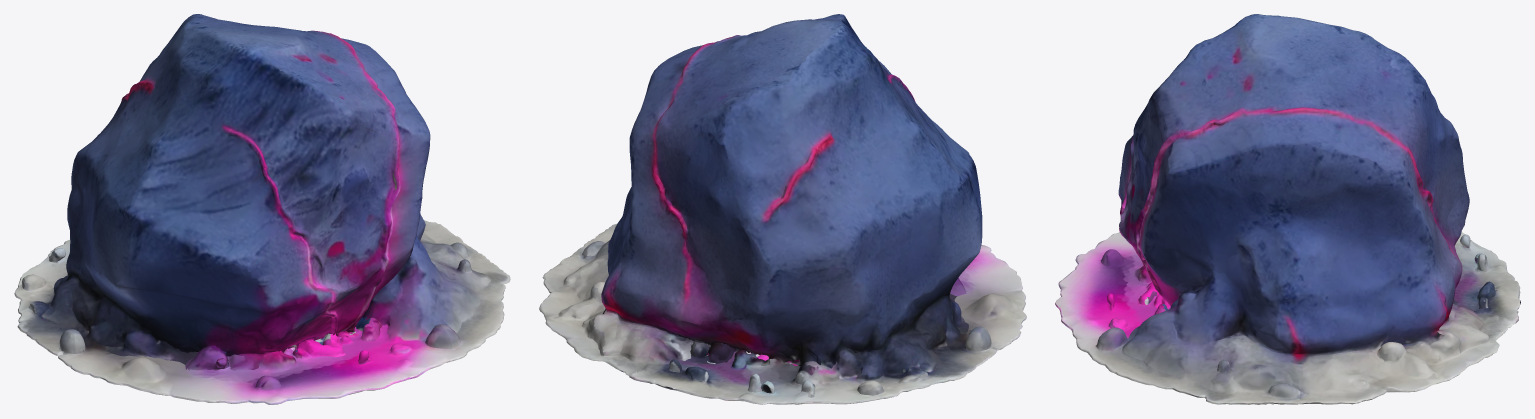
Rendered from shore-stone-5-generated-2026-05-17T20-04-49-387Z.medium.glb.
3 renders of one model, left to right at view 1: azimuth 30°, elevation 25°; view 2: azimuth 150°, elevation 25°; view 3: azimuth 270°, elevation 25°, orthographic. The views are drawn at different scales.
Parts seen in each view (by area): view 1: temp_mesh.ply; view 2: temp_mesh.ply; view 3: temp_mesh.ply.
Part boxes in pixels (left/top/right/bottom): temp_mesh.ply: left=14, top=14, right=510, bottom=404; temp_mesh.ply: left=539, top=14, right=1026, bottom=404; temp_mesh.ply: left=1055, top=14, right=1520, bottom=404.
Size of the model in its own units: 1.97 by 1.24 by 1.92.
Materials: 1 (1 with a texture image).
